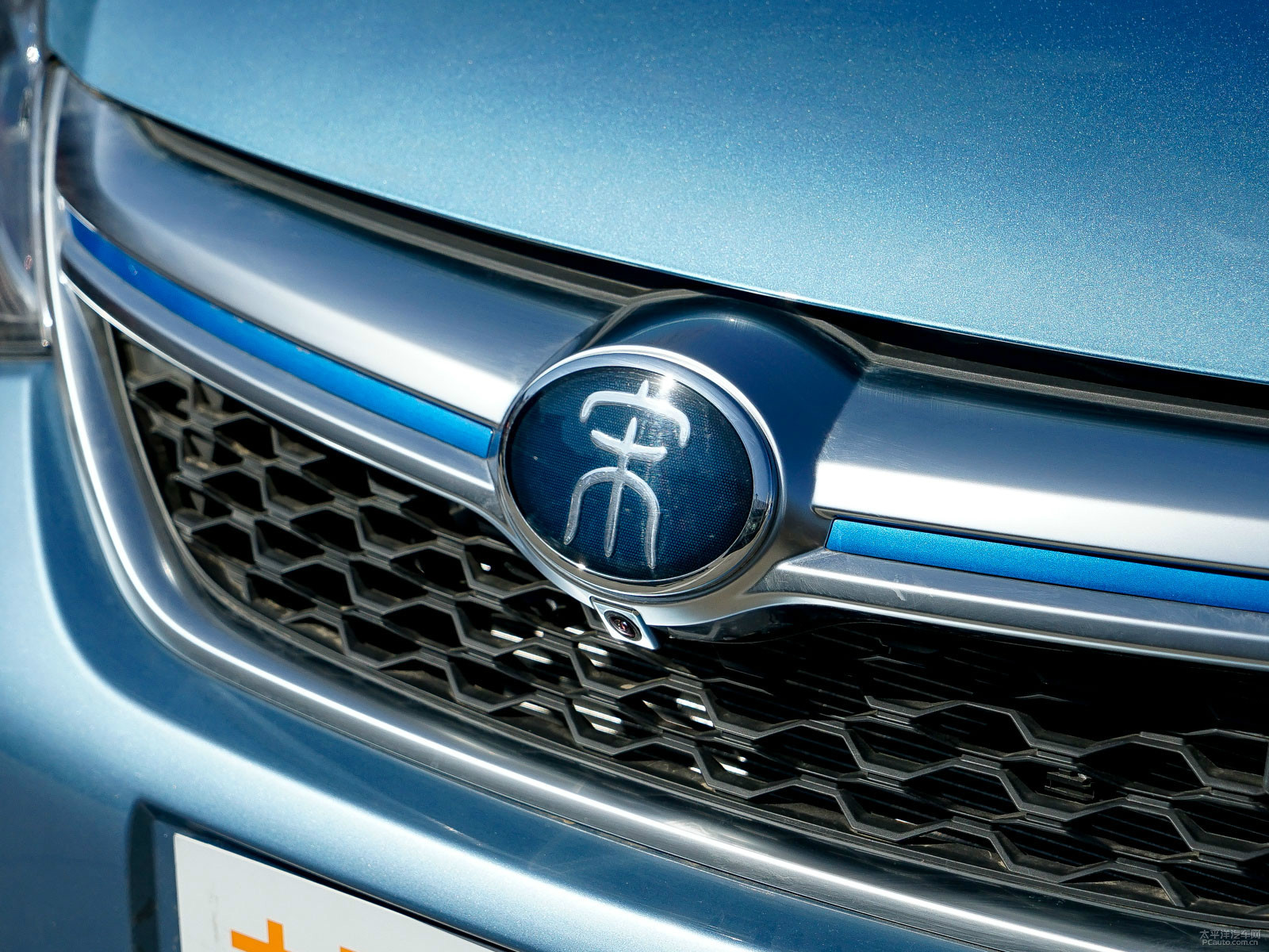BYD Song: (504, 363, 754, 585)
